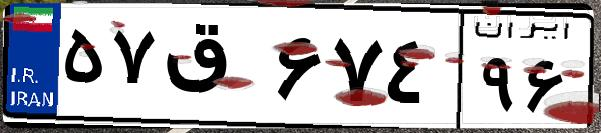4: (385, 28, 445, 110)
5: (57, 26, 110, 100)
6: (270, 28, 330, 110), (525, 38, 570, 115)
7: (330, 28, 385, 110), (110, 28, 158, 98)
9: (475, 38, 525, 113)
ق: (158, 20, 270, 120)
